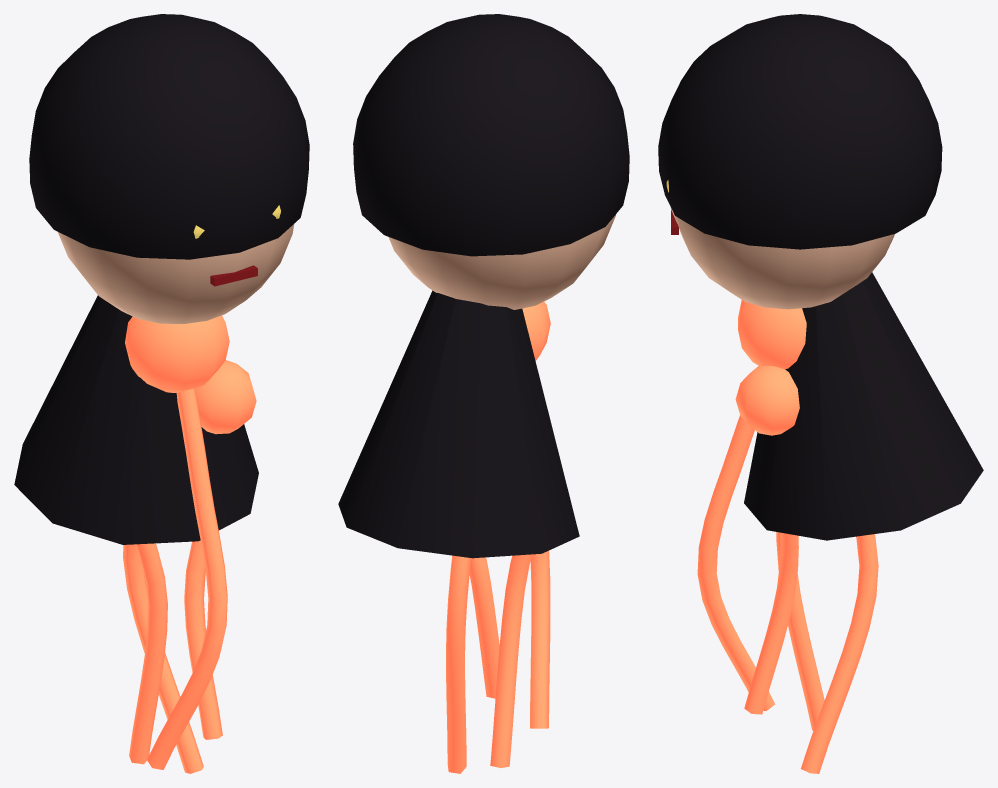
File: krasue.glb
3 views of the same model, side by side, from view 1: azimuth 30°, elevation 25°; view 2: azimuth 150°, elevation 25°; view 3: azimuth 270°, elevation 25° (orthographic). The views are drawn at different scales.
Bounding box in the file's own units: 0.6707 × 2 × 0.8052.
